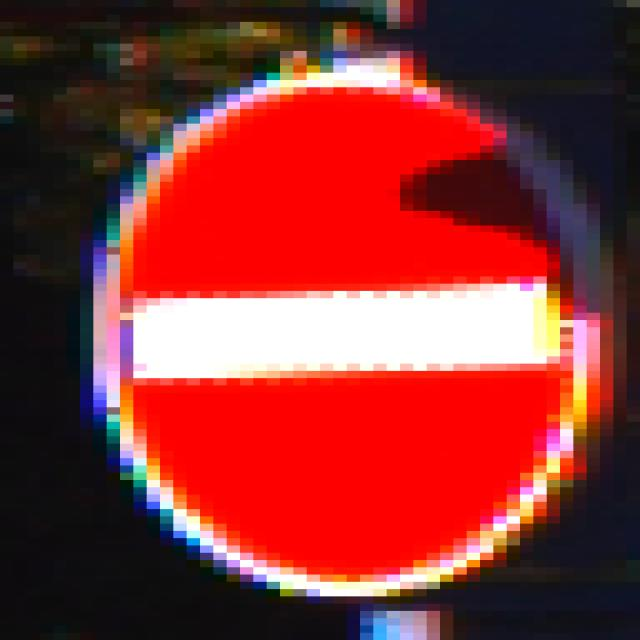No Entry: (68, 59, 574, 590)
